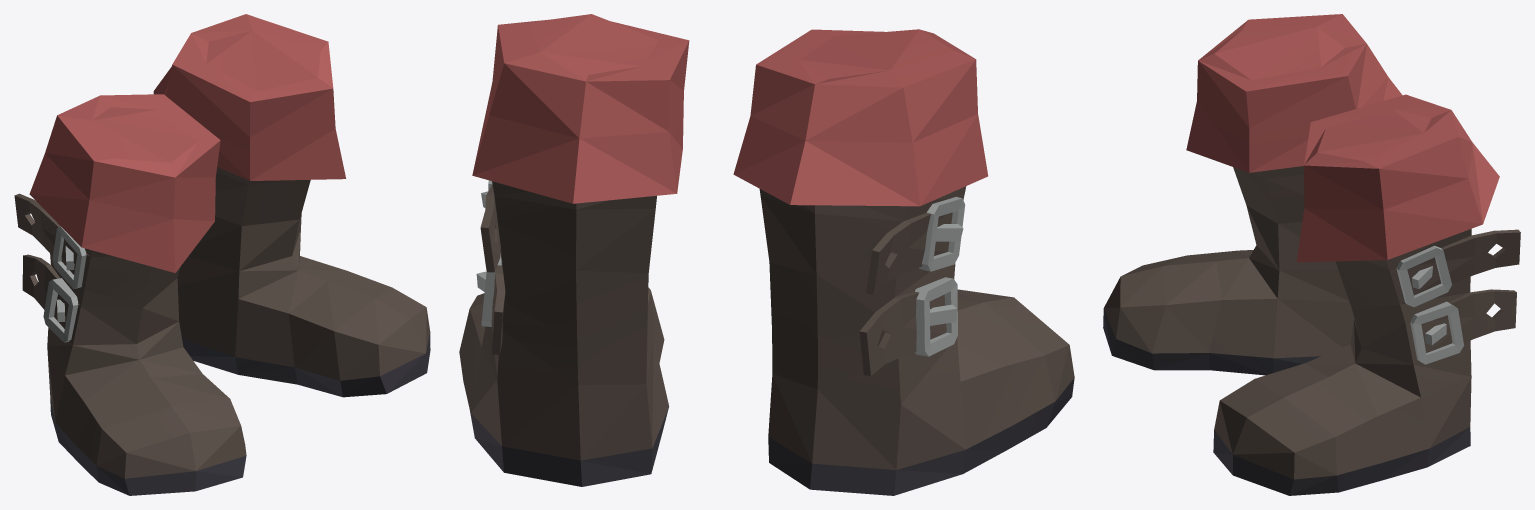
The model's file is bootsAdventureDisplay.fbx.
3 views of the same model, side by side, from view 1: azimuth 30°, elevation 25°; view 2: azimuth 150°, elevation 25°; view 3: azimuth 270°, elevation 25° (orthographic). The views are drawn at different scales.
Parts seen in each view (by area): view 1: bootsAdventureDisplay; view 2: bootsAdventureDisplay; view 3: bootsAdventureDisplay.
Part boxes in pixels (left/top/right/bottom): bootsAdventureDisplay: left=14, top=14, right=430, bottom=495; bootsAdventureDisplay: left=459, top=14, right=1074, bottom=495; bootsAdventureDisplay: left=1103, top=14, right=1520, bottom=495.
Bounding box in the file's own units: 1.57 × 1.18 × 1.43.
